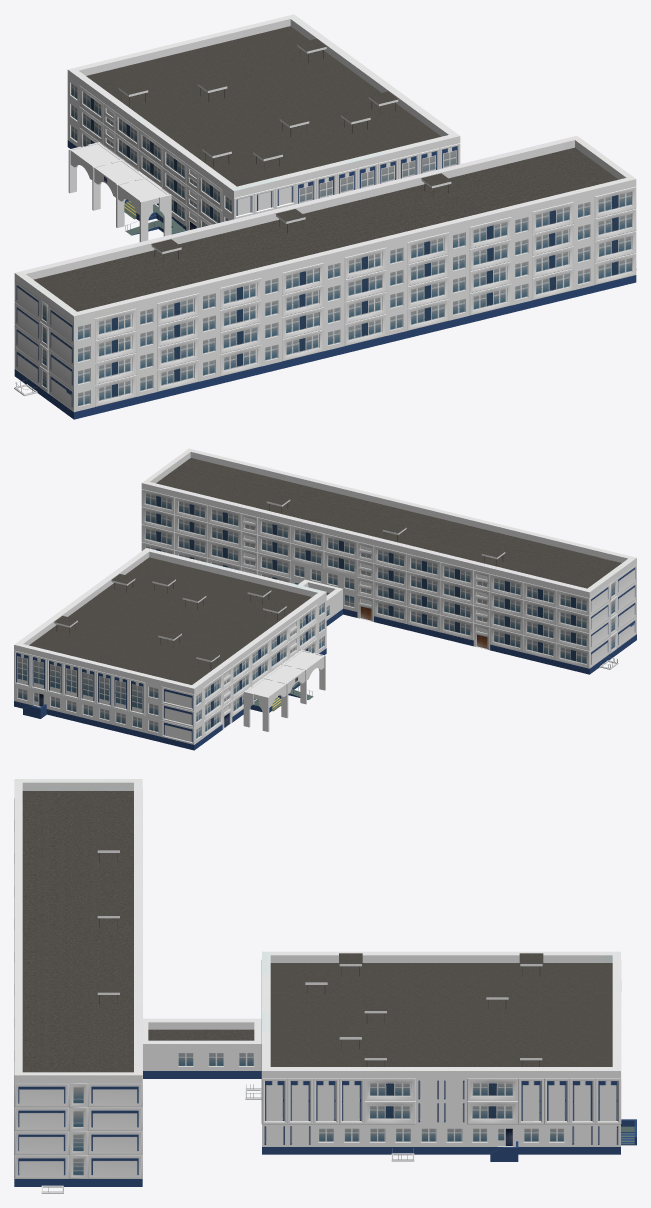
The model's file is school.glb.
3 renders of one model, top to bottom at view 1: azimuth 30°, elevation 25°; view 2: azimuth 150°, elevation 25°; view 3: azimuth 270°, elevation 25°, orthographic. The views are drawn at different scales.
Visible parts, largest first — view 1: Object_4, Object_7, Object_10, Object_9, Object_8, Object_3; view 2: Object_4, Object_7, Object_10, Object_9, Object_5, Object_8, Object_3; view 3: Object_7, Object_4, Object_5, Object_9, Object_3, Object_8.
Part boxes in pixels (x1,y1,x2,y2): Object_4: (14, 135, 636, 419); Object_7: (67, 14, 460, 230); Object_10: (68, 142, 171, 241); Object_9: (118, 38, 451, 262); Object_8: (118, 44, 451, 254); Object_3: (124, 199, 186, 235); Object_4: (141, 448, 636, 674); Object_7: (14, 548, 326, 750); Object_10: (243, 649, 325, 731); Object_9: (54, 495, 505, 668); Object_5: (298, 579, 342, 625); Object_8: (54, 499, 505, 662); Object_3: (23, 681, 313, 718); Object_7: (261, 951, 621, 1154); Object_4: (14, 779, 142, 1186); Object_5: (143, 1018, 261, 1078); Object_9: (97, 839, 543, 1066); Object_3: (490, 1119, 636, 1161); Object_8: (97, 850, 542, 1060).
Bounding box in the file's own units: 2.6 × 0.4606 × 2.21.
8 materials, 6 textured.
